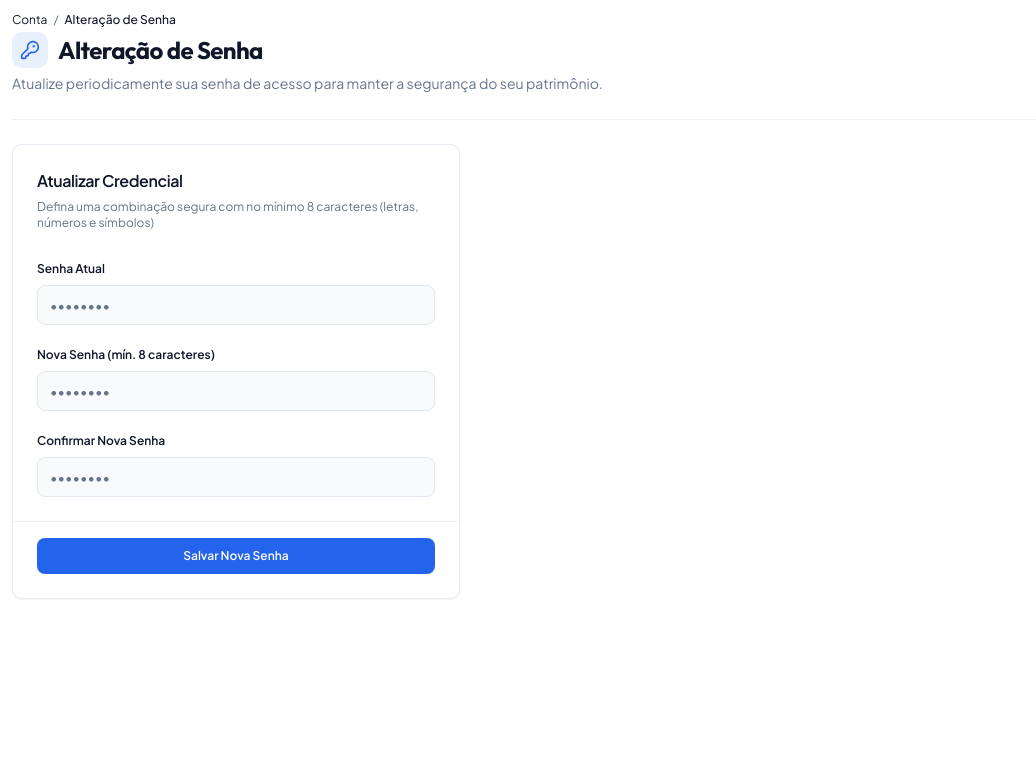
Test: Tela de Alteração de Senha (AccountPasswordPage) › 5. Valida divergência entre nova senha e confirmação
Type "senhaAtual123" into the password field labelled "Senha Atual".
click(236, 305); type("senhaAtual123")  # box [37,285,435,325]
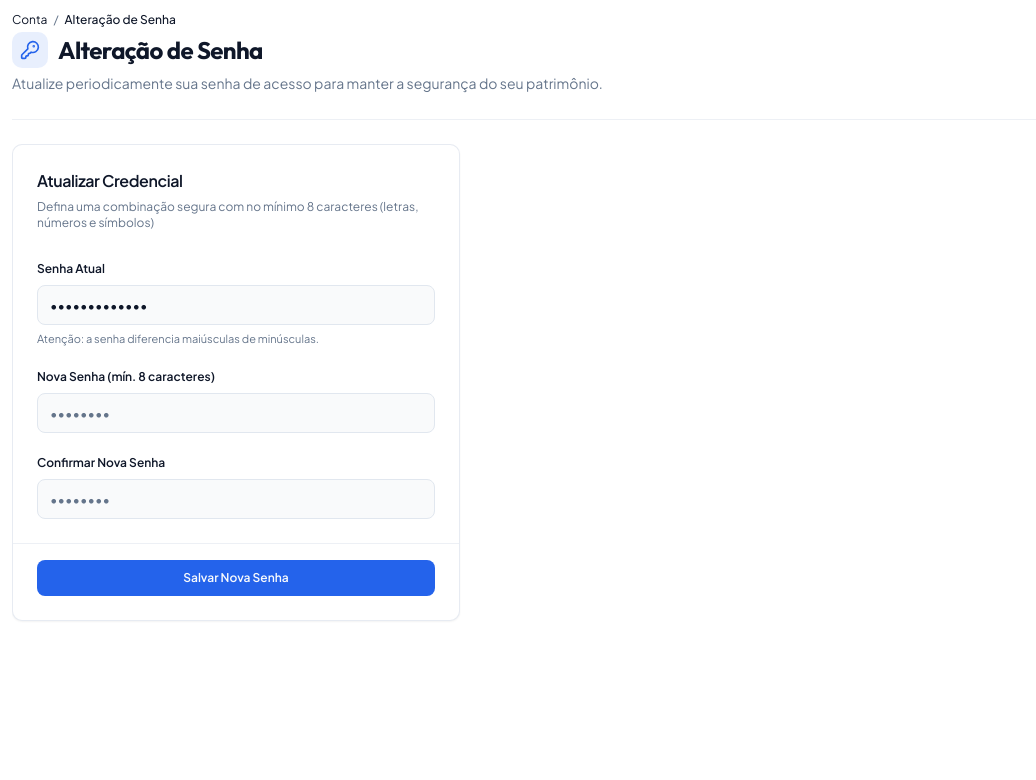
Type "NovaSenha@2026" into the password field labelled "Nova Senha (mín. 8 caracteres)".
click(236, 413); type("NovaSenha@2026")  # box [37,393,435,433]
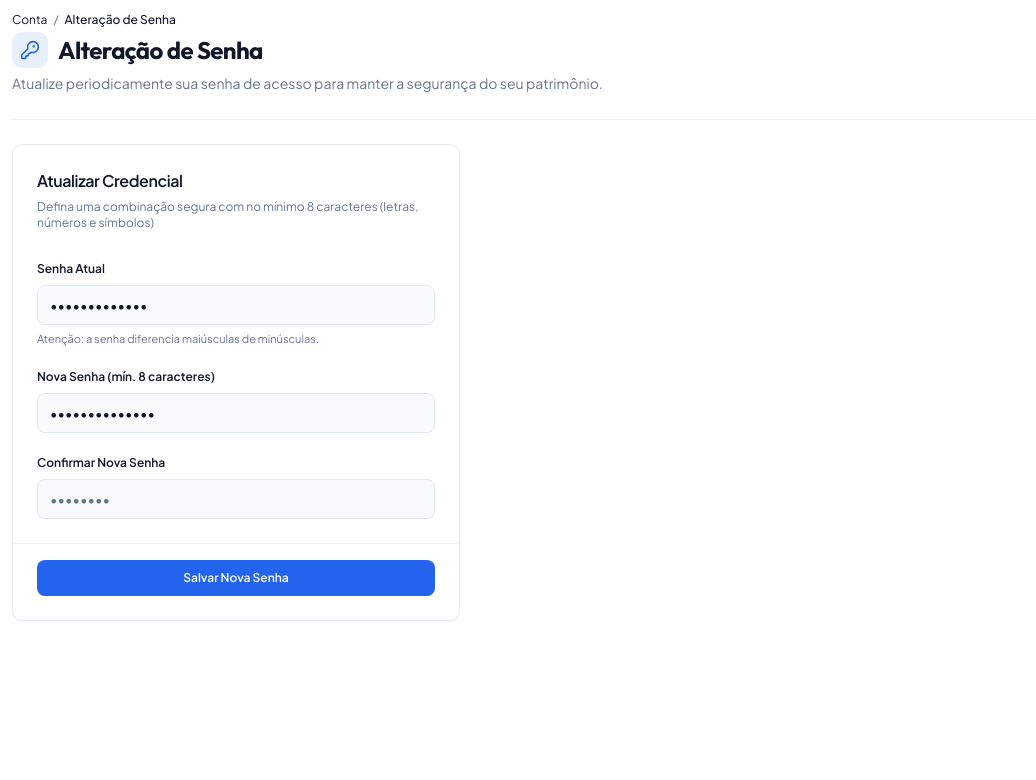
Type "OutraSenha@2026" into the password field labelled "Confirmar Nova Senha".
click(236, 499); type("OutraSenha@2026")  # box [37,479,435,519]
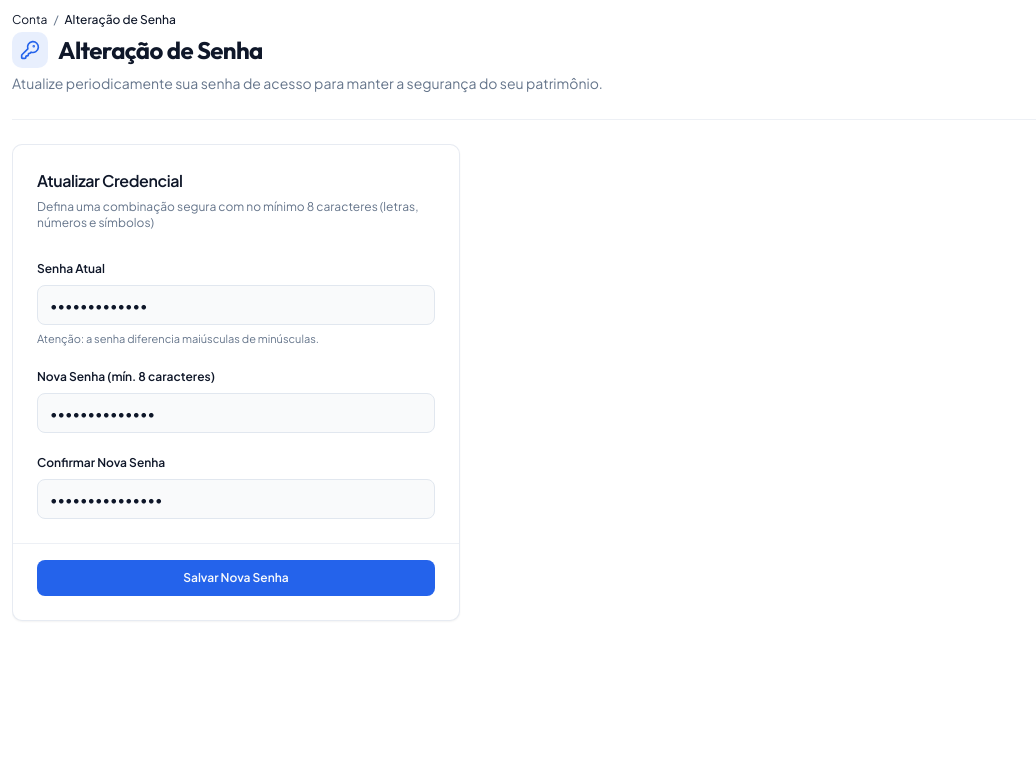
Click the button "Salvar Nova Senha".
click(236, 578)  # box [37,560,435,596]
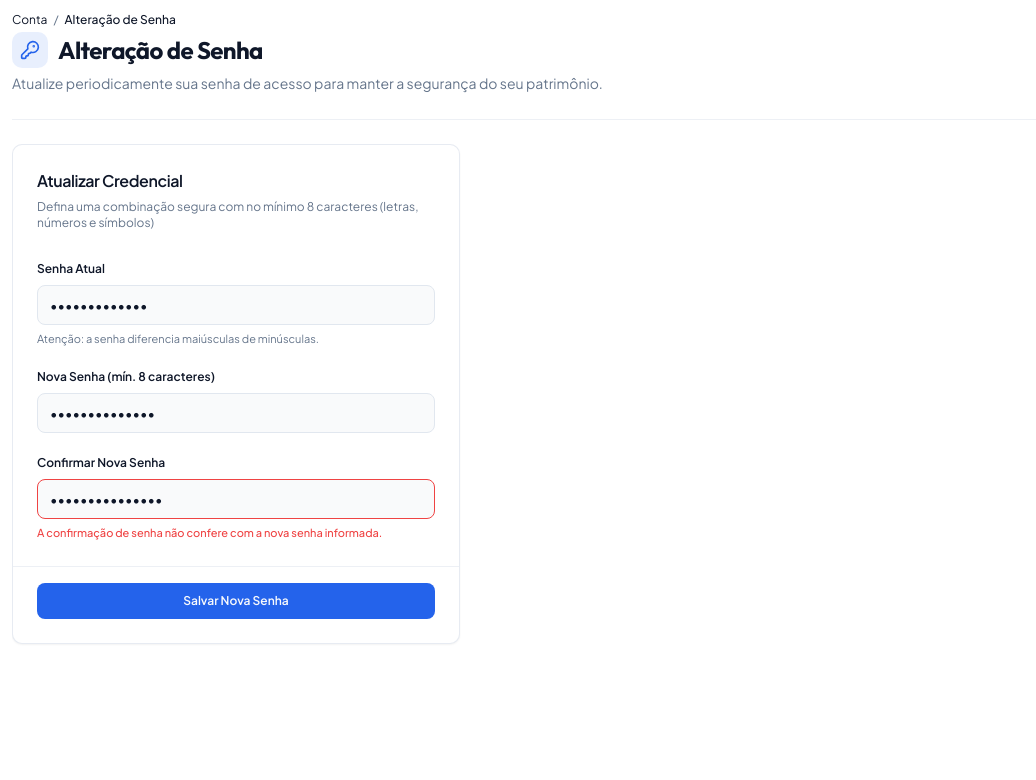
Check: the text "A confirmação de senha não confere com a nova senha informada." is shown, box [37,525,435,542]
